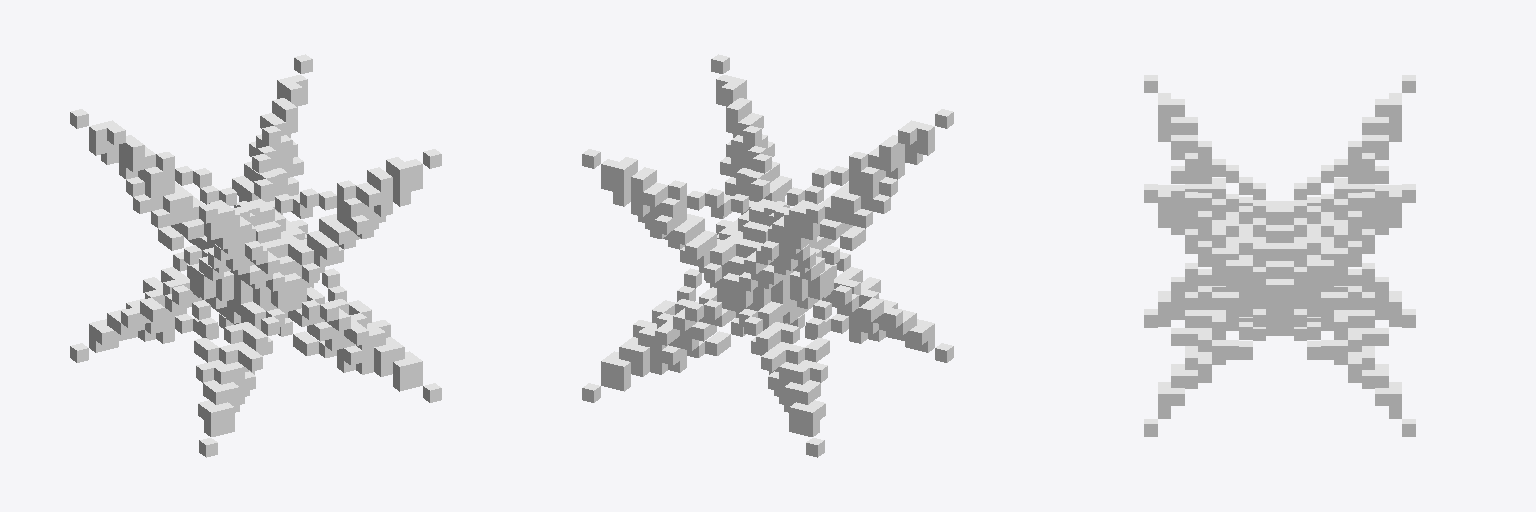
File: POD.obj
3 views of the same model, side by side, from view 1: azimuth 30°, elevation 25°; view 2: azimuth 150°, elevation 25°; view 3: azimuth 270°, elevation 25° (orthographic).
Visible parts, largest first — view 1: object 1; view 2: object 1; view 3: object 1.
Part boxes in pixels (left/top/right/bottom): object 1: left=70, top=54, right=441, bottom=457; object 1: left=582, top=54, right=953, bottom=457; object 1: left=1144, top=75, right=1415, bottom=436.
Size of the model in its own units: 20 by 20 by 20.